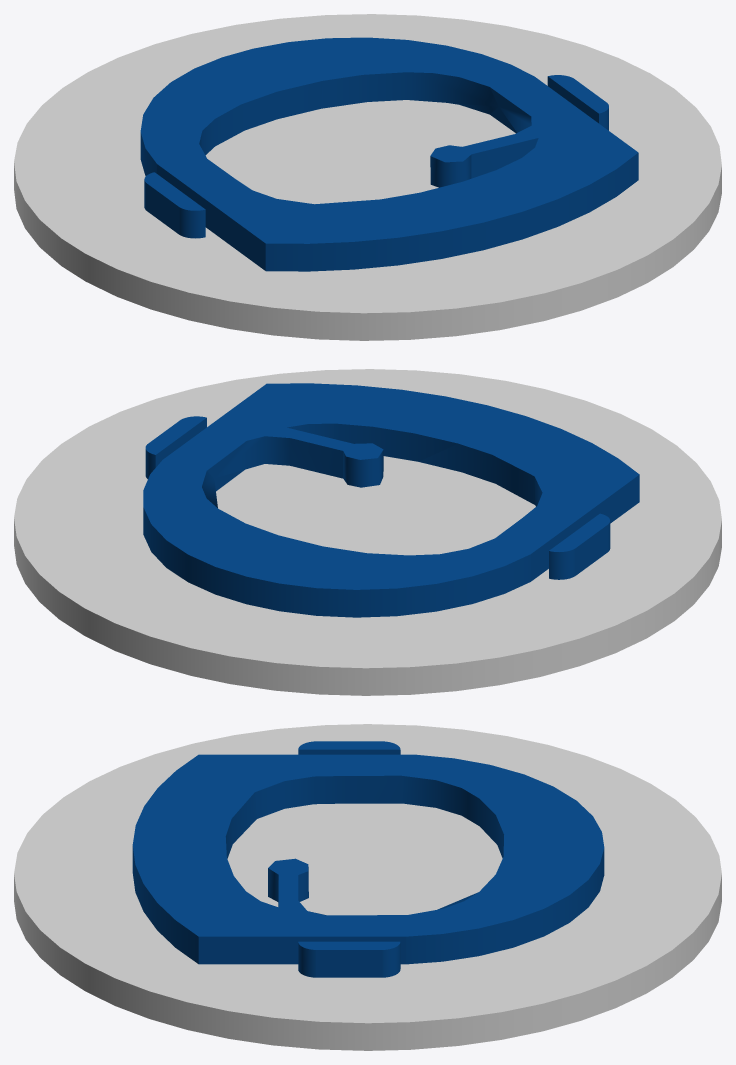
File: MAPICON3.fbx
3 renders of one model, top to bottom at view 1: azimuth 30°, elevation 25°; view 2: azimuth 150°, elevation 25°; view 3: azimuth 270°, elevation 25°, orthographic.
Visible parts, largest first — view 1: CIRCLE, ELEMENTS; view 2: CIRCLE, ELEMENTS; view 3: CIRCLE, ELEMENTS.
Boxes of the visible parts, left/top/right/bottom form: CIRCLE: left=14, top=14, right=721, bottom=340; ELEMENTS: left=140, top=37, right=638, bottom=271; CIRCLE: left=14, top=369, right=721, bottom=695; ELEMENTS: left=143, top=383, right=639, bottom=617; CIRCLE: left=14, top=724, right=721, bottom=1050; ELEMENTS: left=132, top=741, right=604, bottom=977.
Size of the model in its own units: 463 by 463 by 40.
